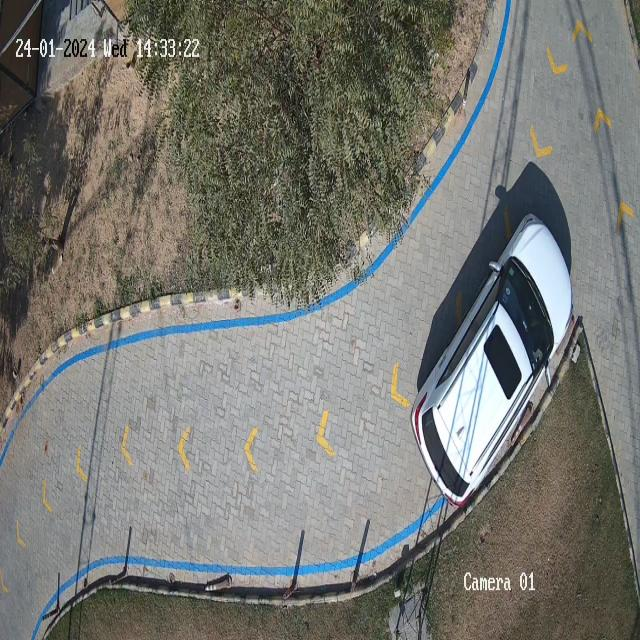car: (411, 216, 572, 506)
